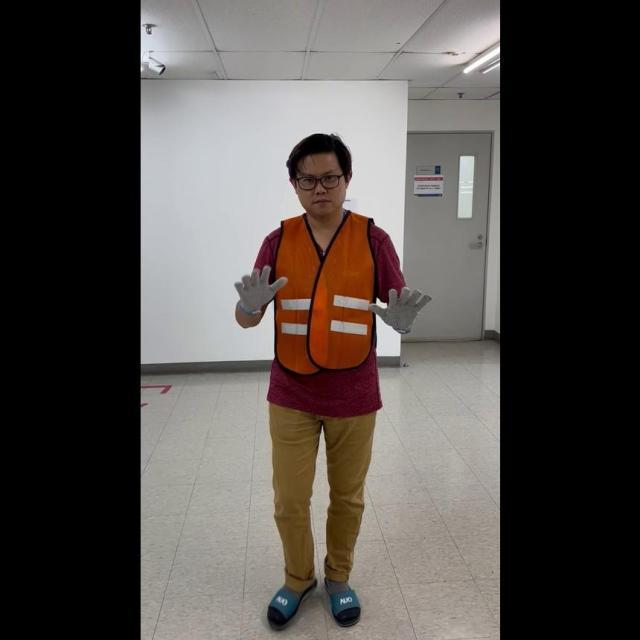gloved_hand: (366, 282, 430, 333), (231, 259, 287, 316)
